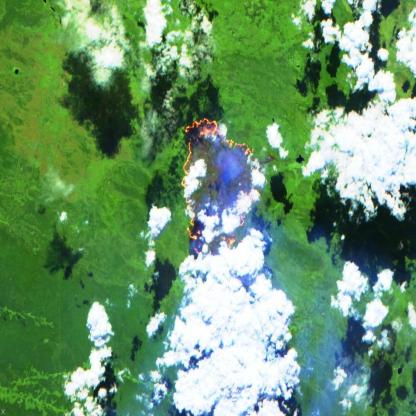fire: (178, 118, 267, 269)
